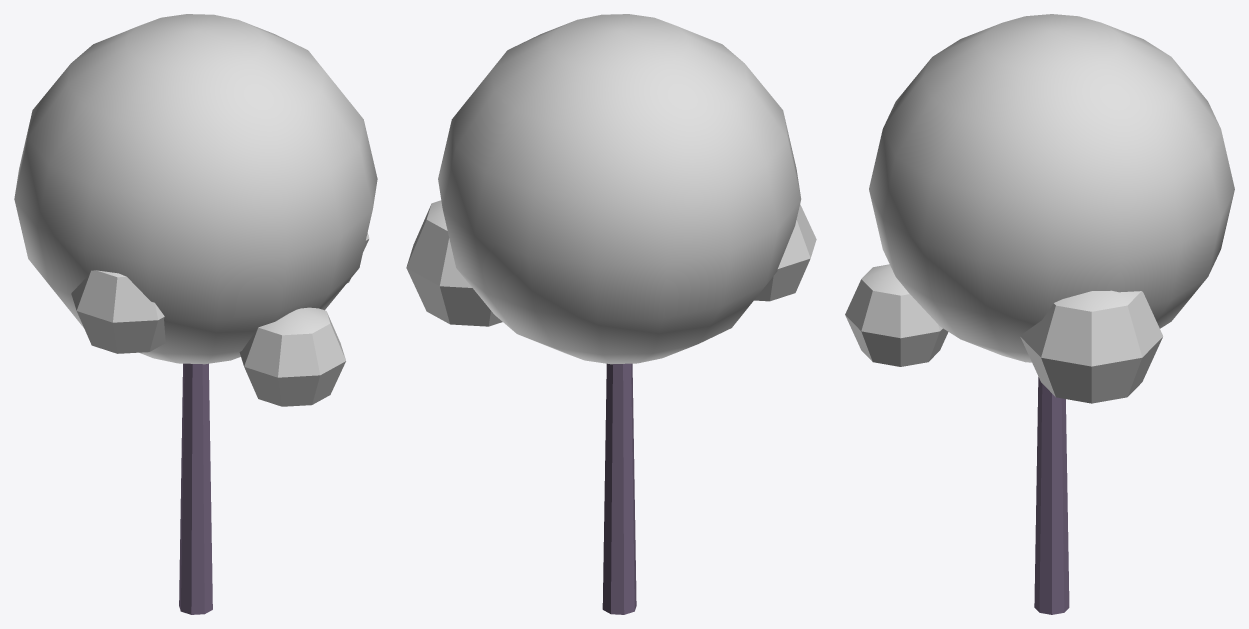
Rendered from tree_round.glb.
3 views of the same model, side by side, from view 1: azimuth 30°, elevation 25°; view 2: azimuth 150°, elevation 25°; view 3: azimuth 270°, elevation 25° (orthographic).
Parts seen in each view (by area): view 1: tree_round; view 2: tree_round; view 3: tree_round.
Boxes of the visible parts, box(x1,y1,x2,y2) form: tree_round: box(14, 14, 377, 614); tree_round: box(406, 14, 816, 614); tree_round: box(845, 14, 1234, 614).
Size of the model in its own units: 5 by 7.99 by 4.9.
